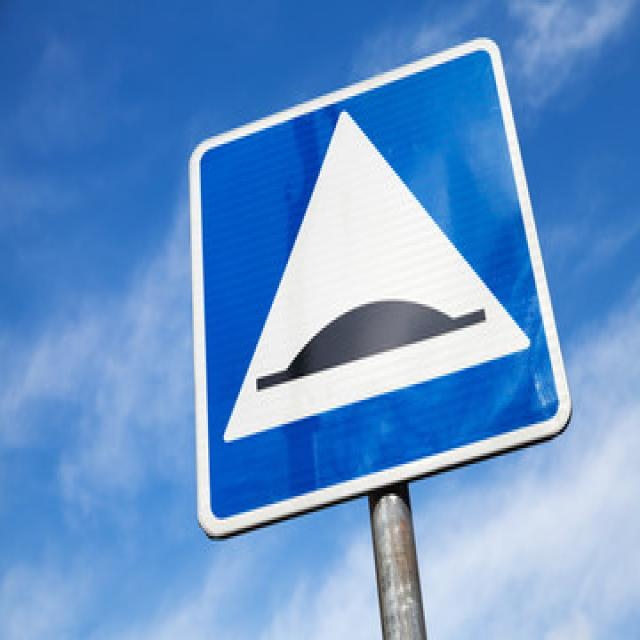hump: (188, 36, 562, 543)
